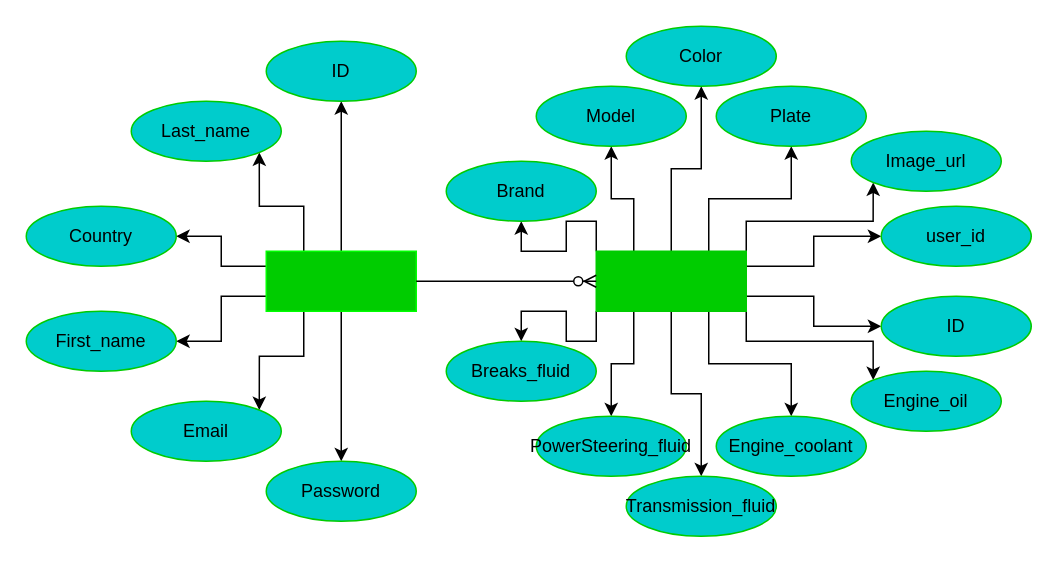
This 1058x563 diagram has some shape labels left out. Each missing label, with the centre of its shape:
"cars" goes at [670,280].
"users" goes at [340,280].
